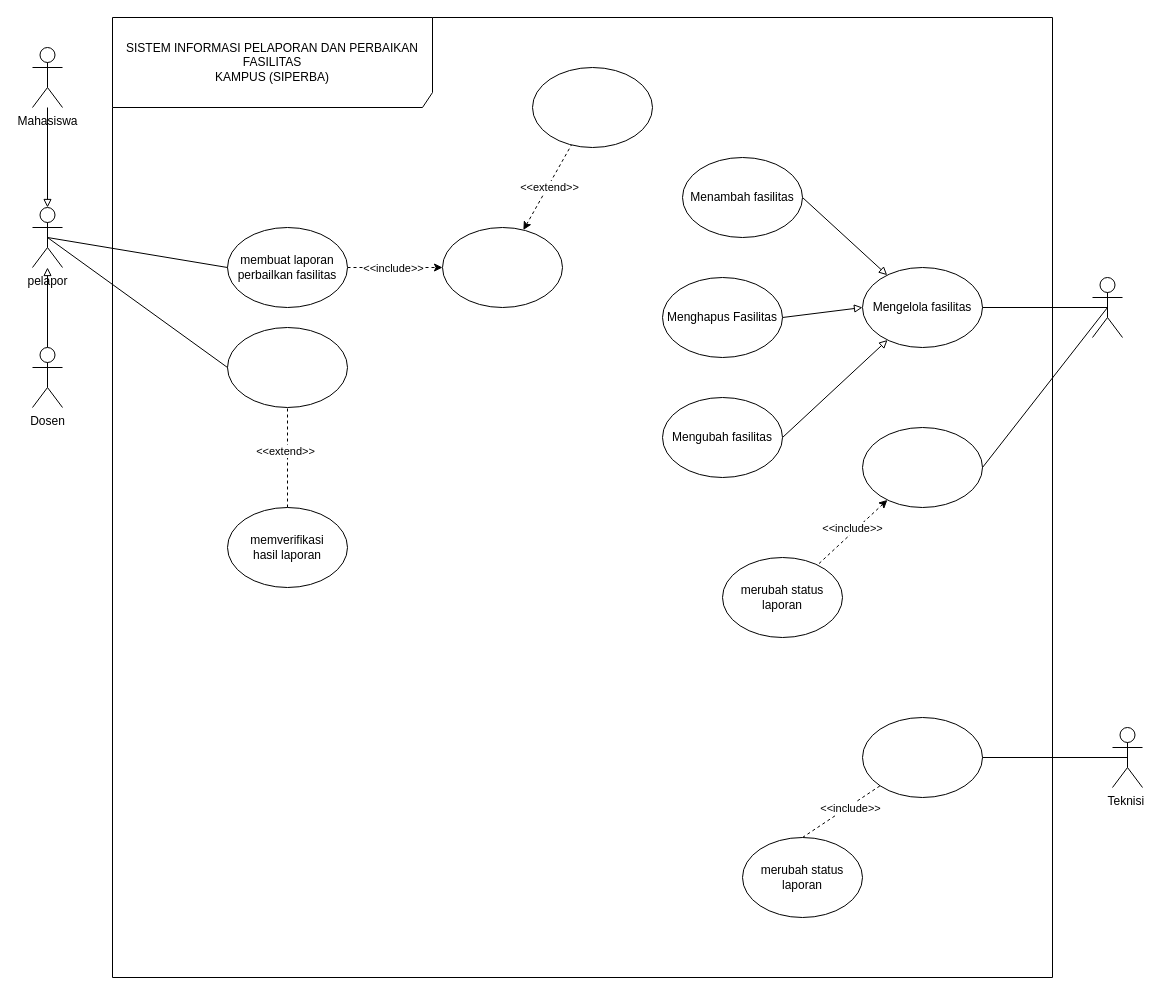
The diagram is 1168 pixels wide and 995 high, and some of its shapes have lost their labels. Each missing label, with the centre of its shape:
"Melihat status laporan" belongs at (x=287, y=367).
"Memeriksa laporan" belongs at (x=502, y=267).
"mencatat laporan" belongs at (x=592, y=107).
"Mencatat perbaikan" belongs at (x=922, y=757).
"Menugaskan teknisi" belongs at (x=922, y=467).
"Petugas fasilitas" belongs at (x=1107, y=307).
